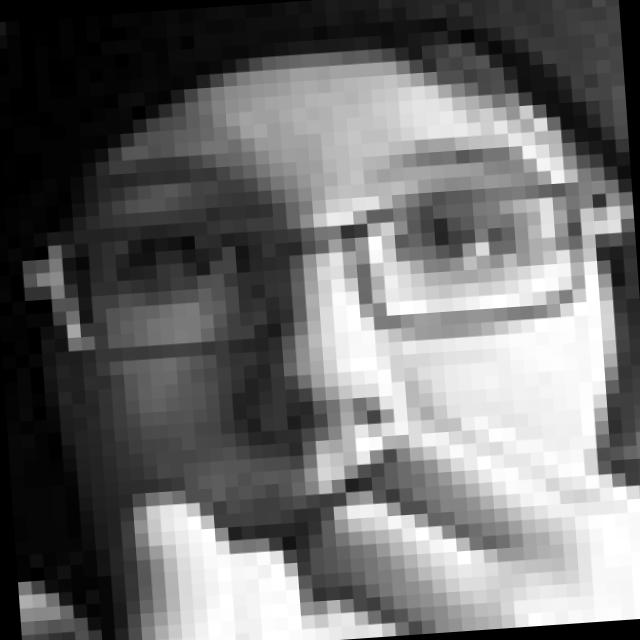fear: (78, 130, 571, 620)
